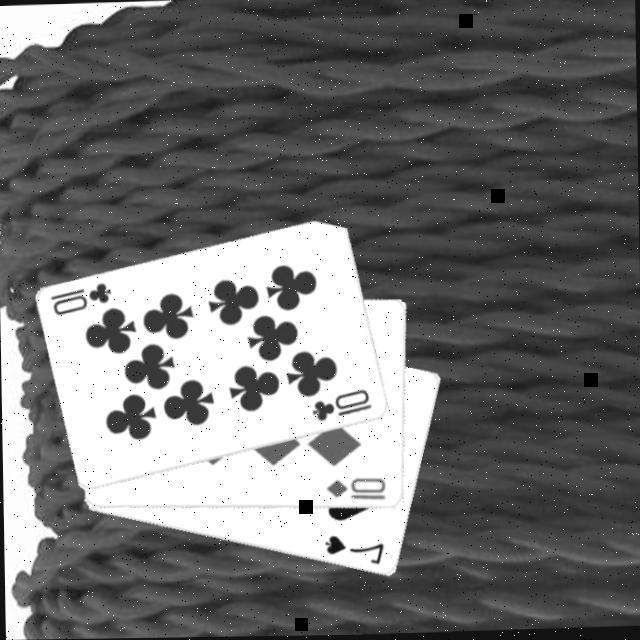10C: (46, 280, 114, 320), (308, 388, 374, 428)
10D: (322, 476, 388, 508)
7S: (320, 534, 386, 572)
